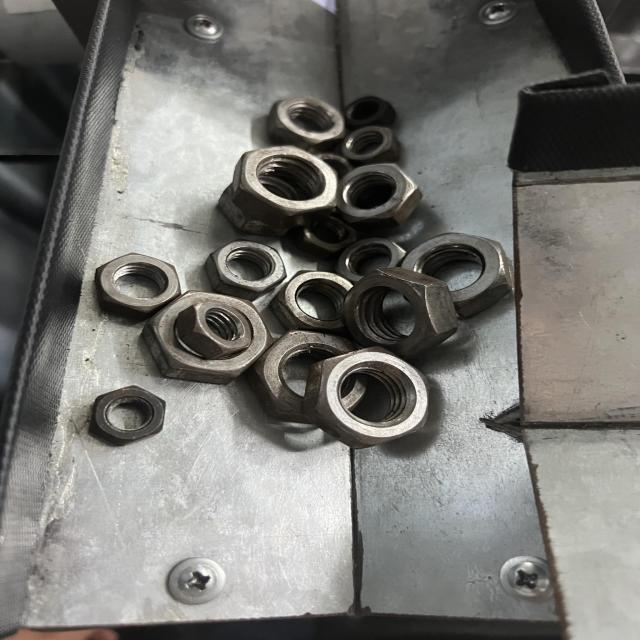nut: (311, 348, 430, 448), (339, 268, 458, 353), (231, 146, 339, 216), (94, 252, 183, 314), (92, 386, 166, 444), (209, 240, 287, 294), (182, 303, 250, 358)
